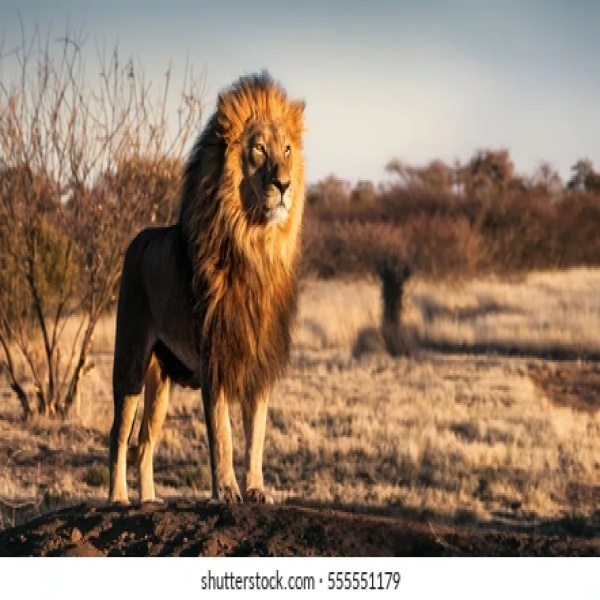Lion: (107, 63, 311, 512)
